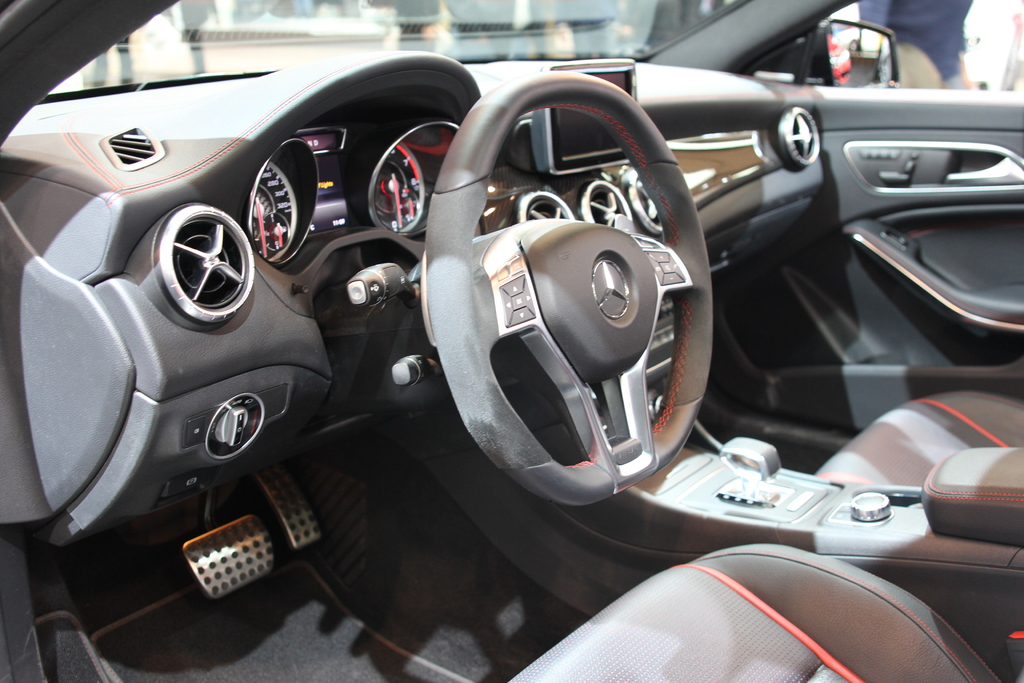person: (361, 0, 457, 55)
